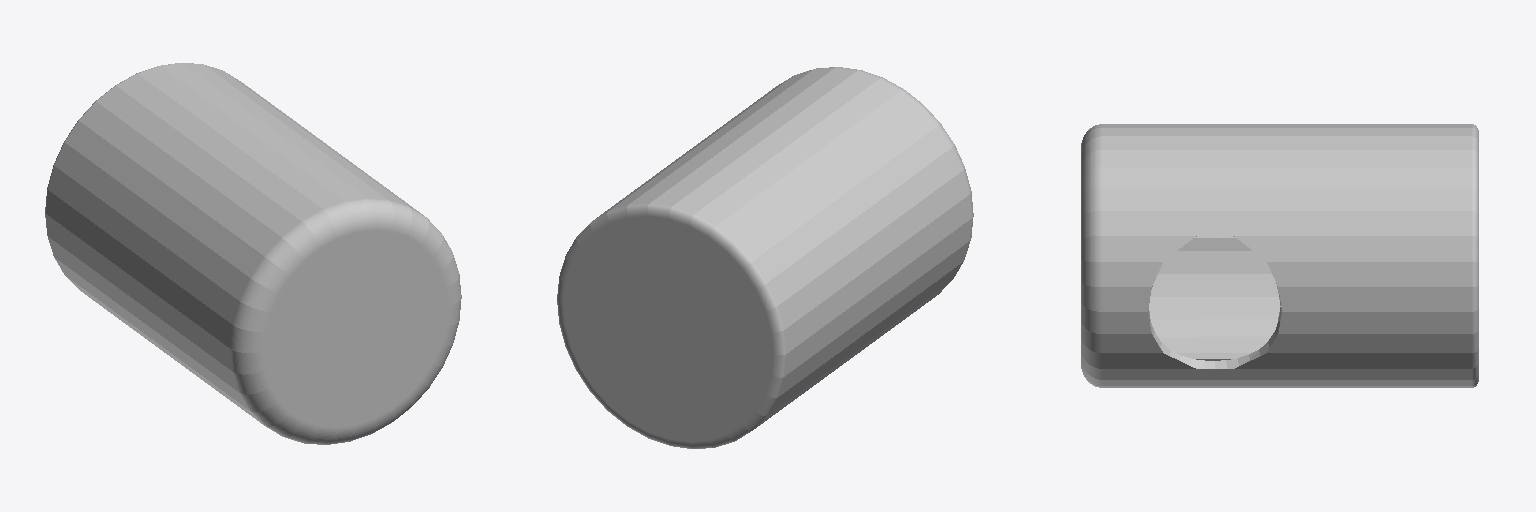
File: lidar.obj
The picture shows the model from 3 angles: view 1: azimuth 30°, elevation 25°; view 2: azimuth 150°, elevation 25°; view 3: azimuth 270°, elevation 25°; orthographic projection.
Visible parts, largest first — view 1: Cylinder.002; view 2: Cylinder.002; view 3: Cylinder.002.
Boxes of the visible parts, <box> form: Cylinder.002: <box>45,63,461,444</box>; Cylinder.002: <box>557,67,973,448</box>; Cylinder.002: <box>1081,124,1478,387</box>.
Bounding box in the file's own units: 0.172 × 0.172 × 0.2596.